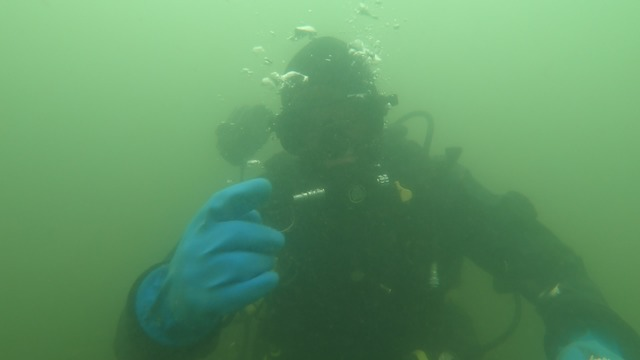Diver: (110, 22, 634, 357)
Hand: (129, 170, 287, 345)
Head: (262, 40, 402, 211)
